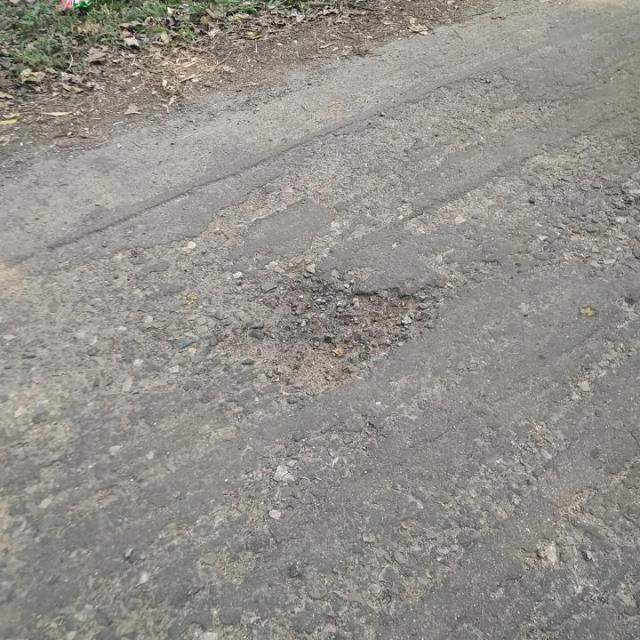pothole: (209, 276, 441, 396)
